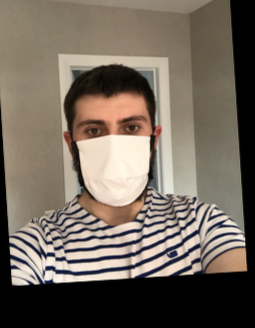with_mask: (74, 108, 153, 208)
